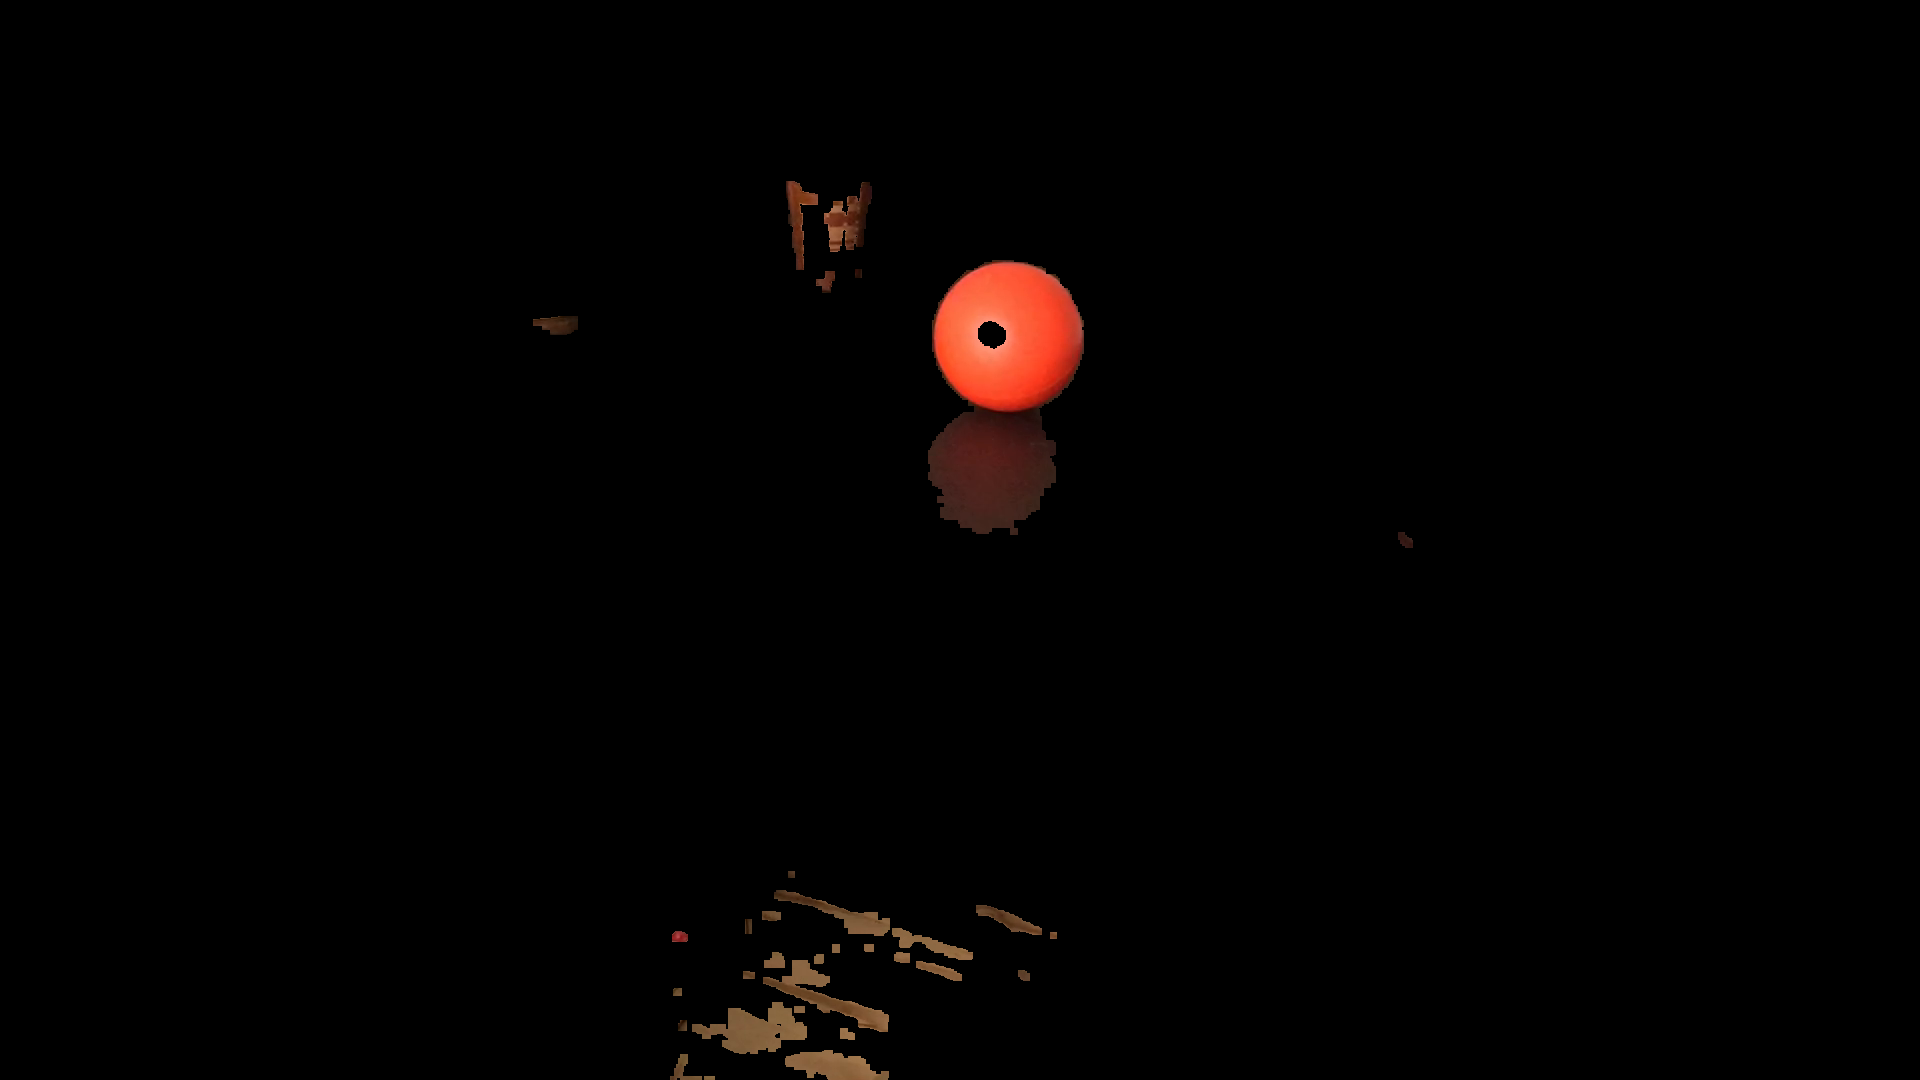Ball: (928, 261, 1084, 415)
